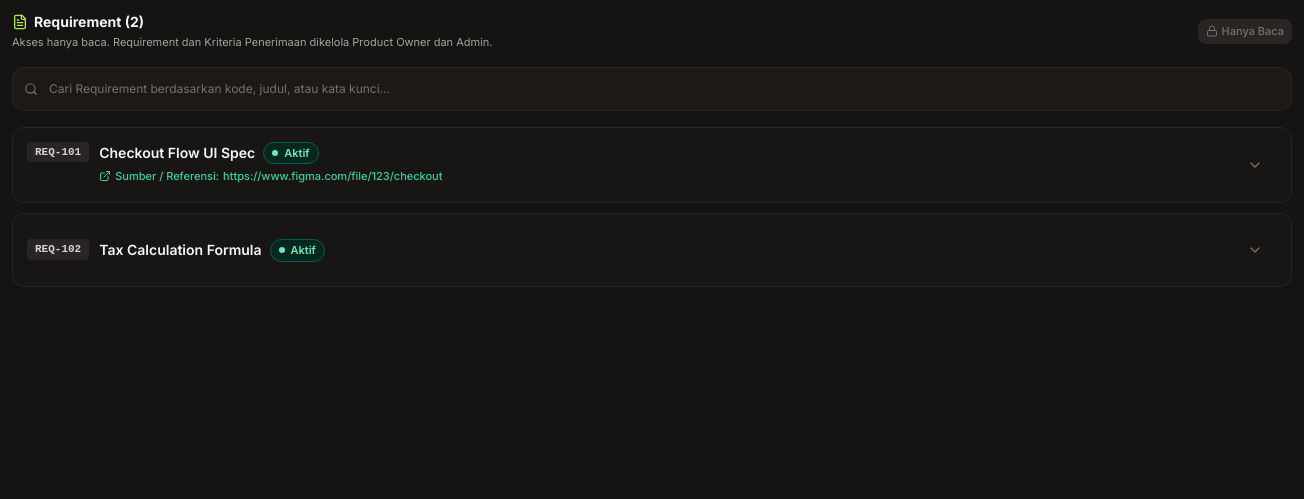
Test: RequirementManager Organism › shows Kriteria Penerimaan read-only to QA members
Click the button named "Buka detail" in the row of "https://www.figma.com/file/123/checkout": (1255, 165) [1233, 143, 1277, 187]
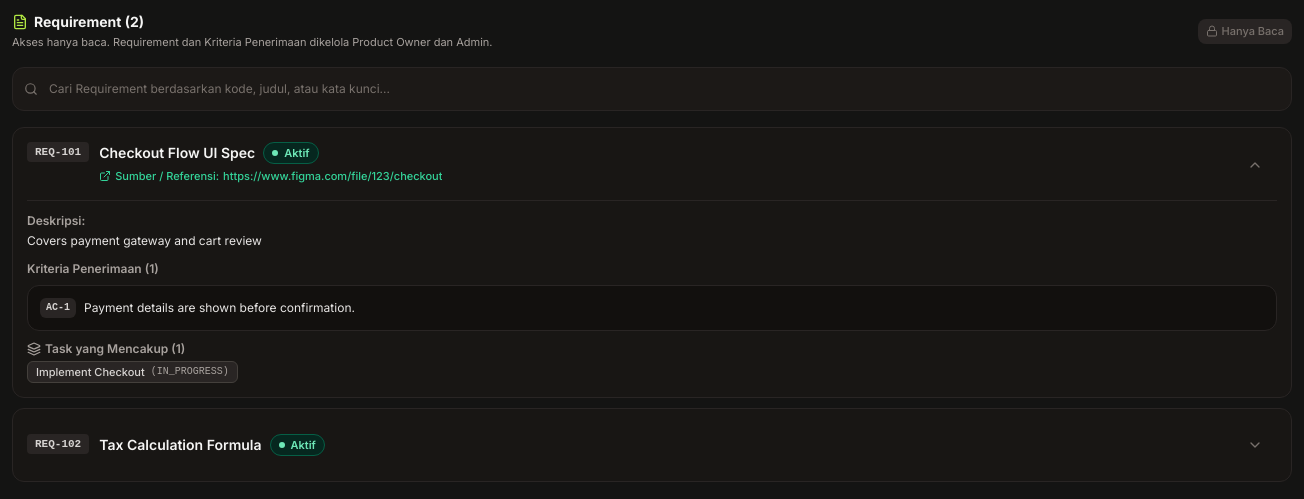
Expected: the text "Payment details are shown before confirmation." is shown, [84, 298, 355, 317]
